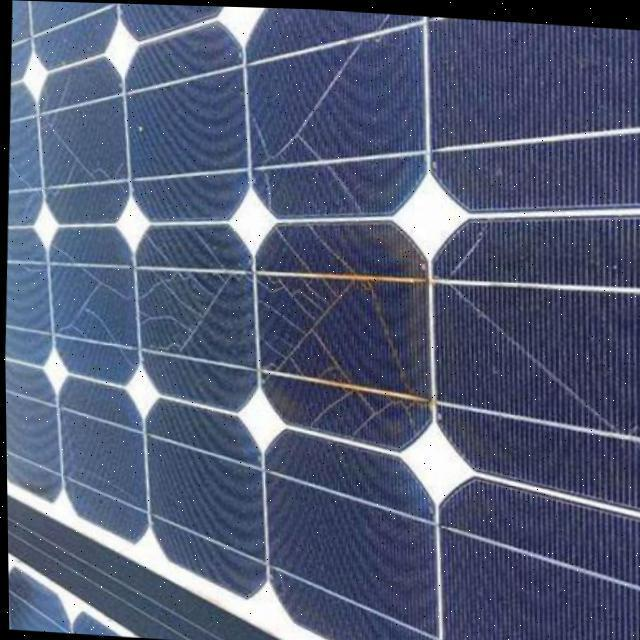Anomaly Solar Panel: (4, 0, 640, 640)
Structural Damage: (443, 280, 617, 432), (236, 65, 377, 187), (118, 240, 230, 367), (253, 275, 355, 382), (25, 125, 122, 206), (51, 267, 135, 359), (347, 390, 411, 443), (303, 223, 352, 273), (443, 226, 485, 279), (320, 161, 363, 212), (303, 385, 351, 428), (270, 225, 311, 275), (166, 271, 209, 314), (190, 229, 223, 270), (7, 138, 28, 194), (140, 233, 171, 266), (45, 243, 74, 263), (113, 346, 134, 370), (260, 172, 271, 207), (373, 11, 387, 30)
